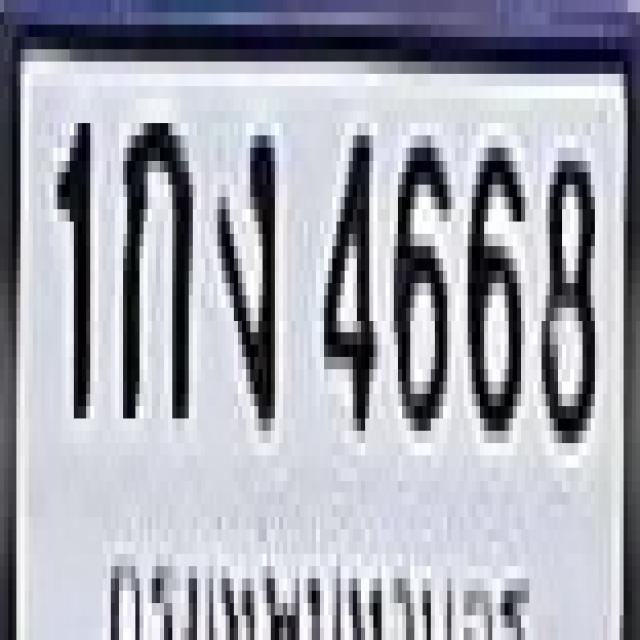-: (119, 111, 189, 406), (213, 123, 271, 419)
1: (53, 111, 86, 406)
4: (320, 123, 373, 419)
6: (390, 123, 447, 419), (464, 136, 521, 418)
8: (537, 135, 591, 431)
